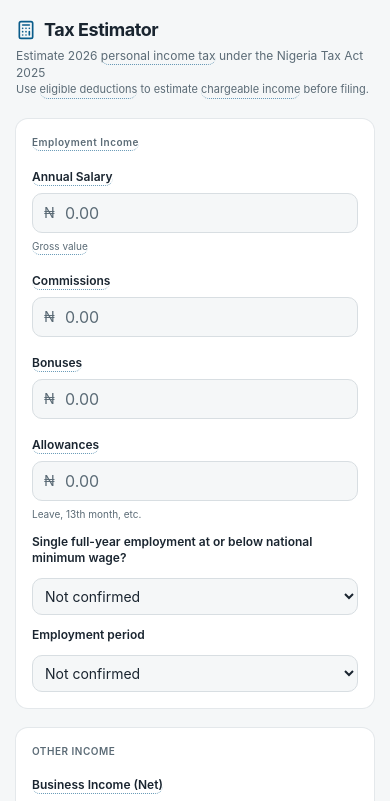
Test case: TaxCalculator glossary integration › shows a zero-tax result when positive income falls within the zero-rate band
This screenshot has width=390, height=801.
Type "600000" into the field labelled "Annual Salary" at {"x": 195, "y": 212}, box [32,192,358,232]
(page scrolled)
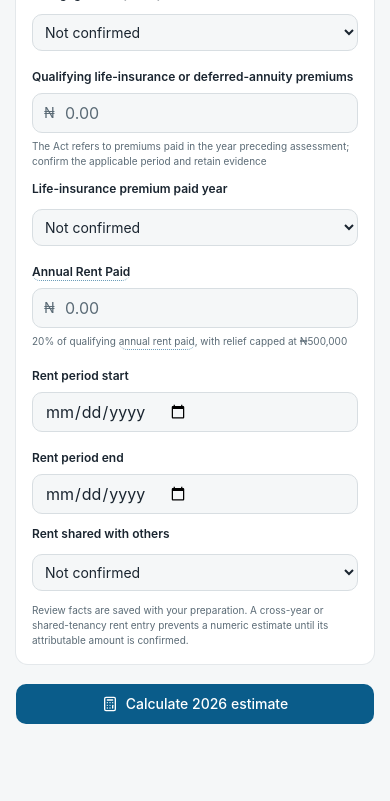
Click the button "Calculate 2026 estimate" at {"x": 195, "y": 704}, box [16,684,374,724]
(page scrolled)
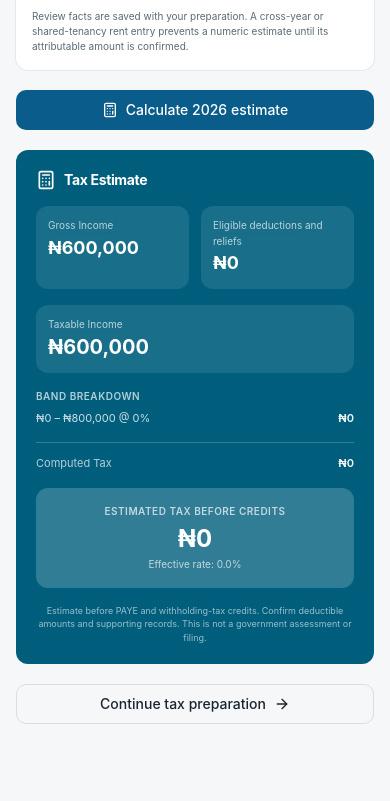
Expected: the message shows "₦0", [213,252,239,272]
Expected: the button "Continue tax preparation" is shown, [16,684,374,724]
